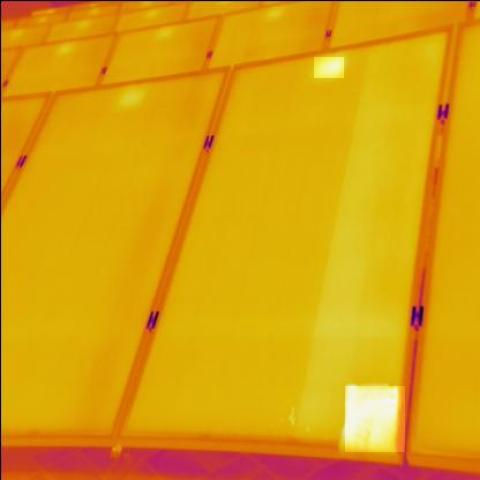fault: (345, 386, 405, 452), (314, 57, 344, 78)
